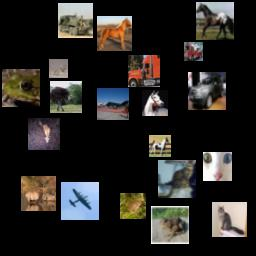airplane: (61, 182, 99, 220), (97, 88, 129, 120)
automobile: (188, 72, 226, 110)
bird: (50, 81, 82, 113)
cat: (158, 160, 196, 198), (212, 202, 247, 237), (203, 152, 232, 181)
deer: (21, 176, 56, 211), (28, 118, 60, 150)
dog: (49, 59, 68, 78)
frog: (151, 206, 189, 244), (2, 69, 40, 107), (120, 193, 146, 219)
truck: (58, 3, 93, 38), (128, 55, 160, 87), (184, 42, 203, 61)
